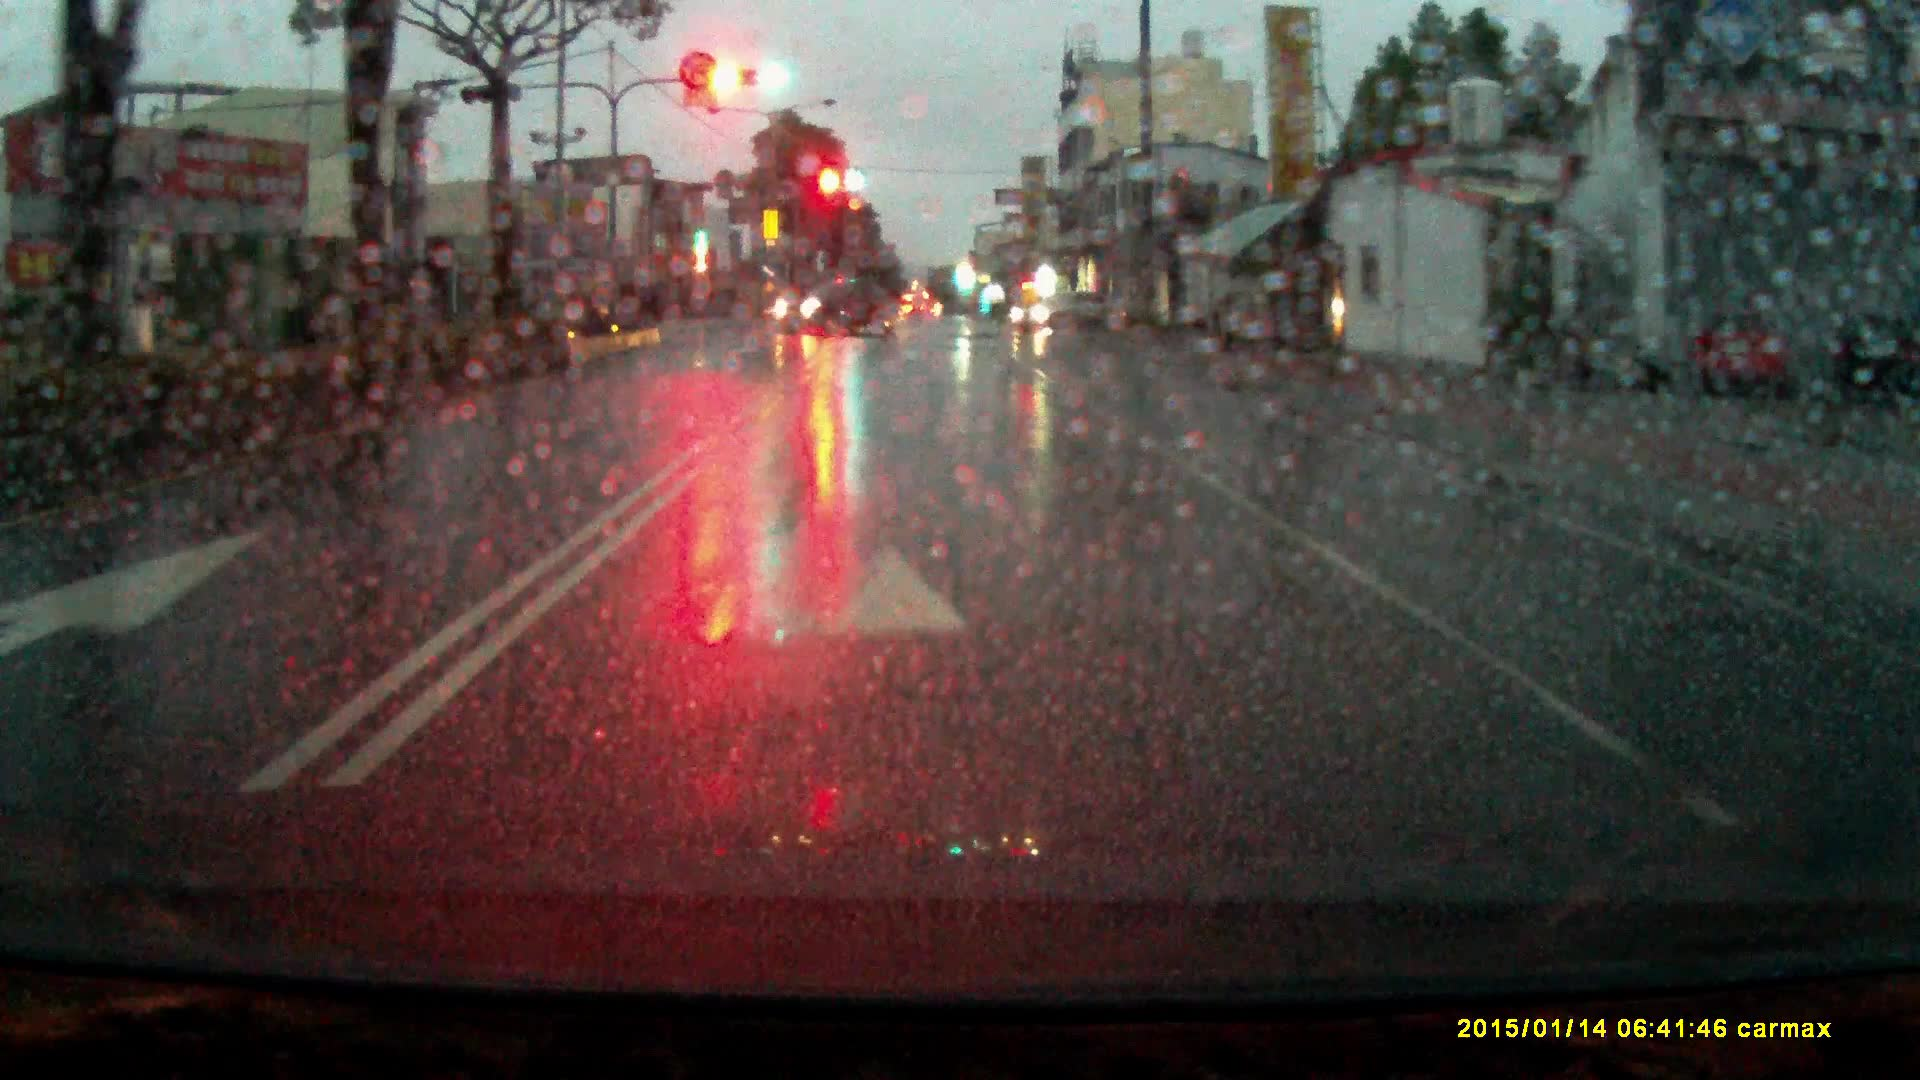vehicle: (770, 276, 910, 342), (1011, 291, 1125, 342)
